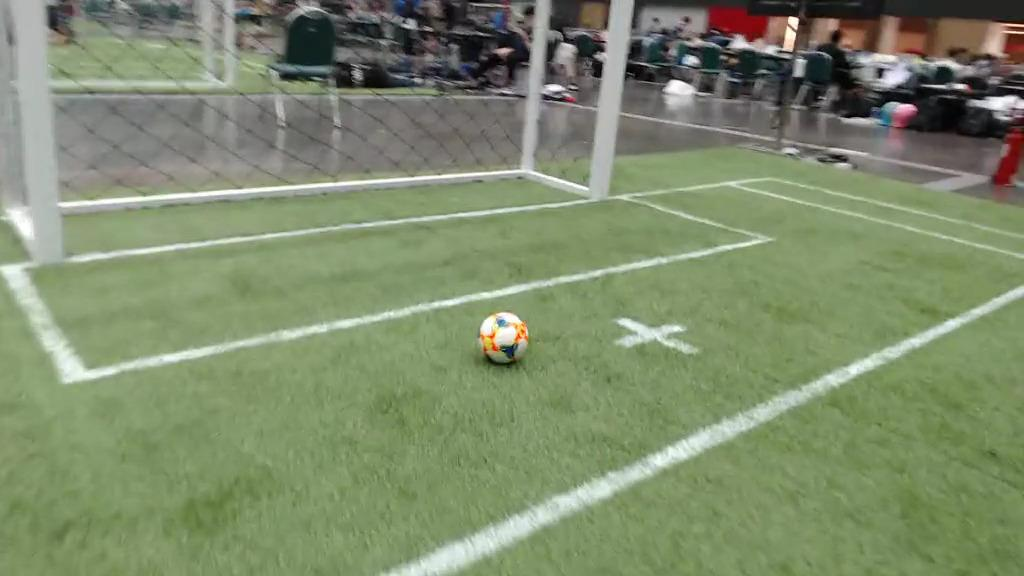ball: (481, 312, 528, 364)
